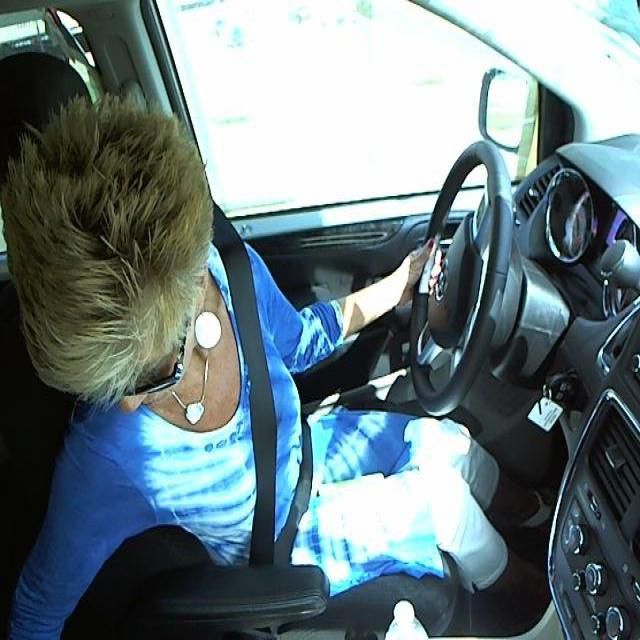seatbelt: (214, 261, 320, 560)
